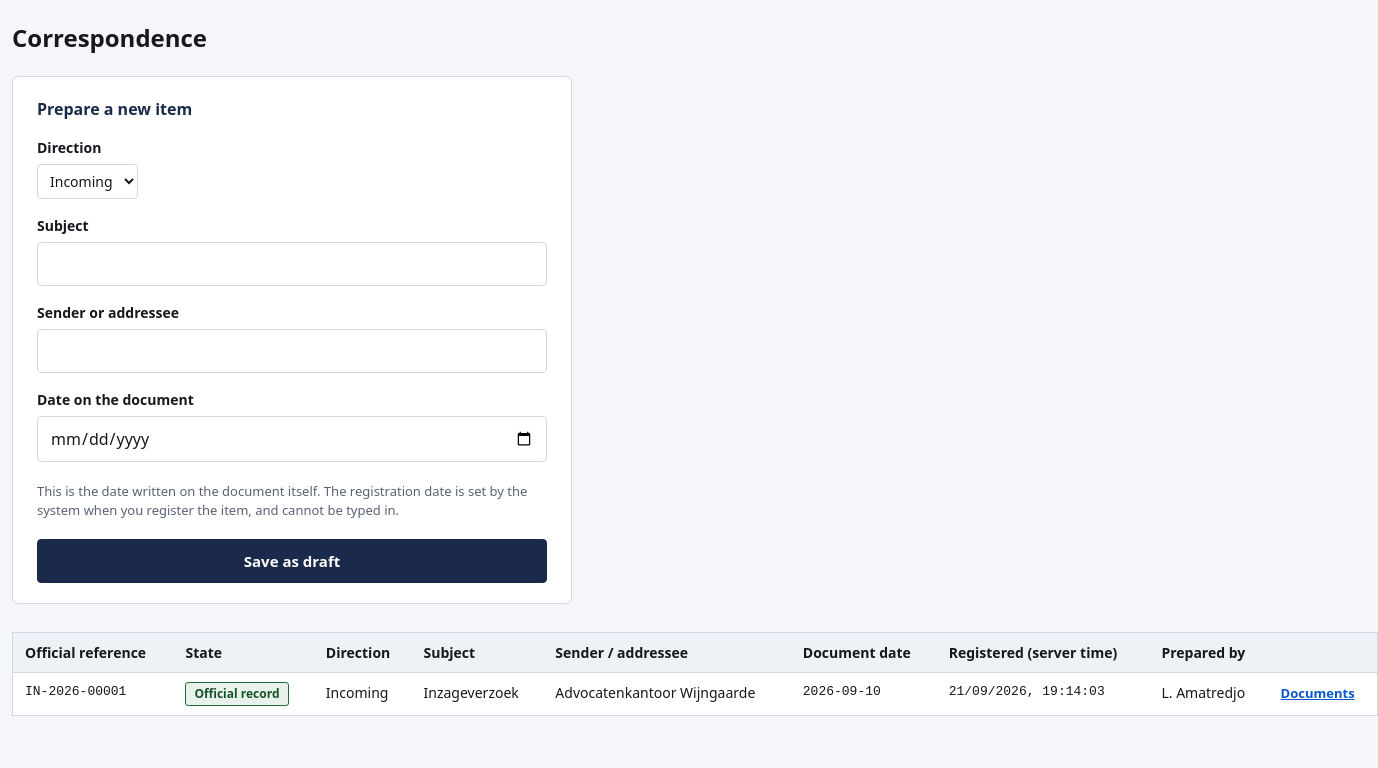
Test case: Registration duplicate warning › derived text (FR-COR-015) › explains an empty PDF as a missing text layer, not as a blank page
Click the button "Documents". click: (1318,693)
box: top-left (1281, 684), bottom-right (1355, 702)
(page scrolled)
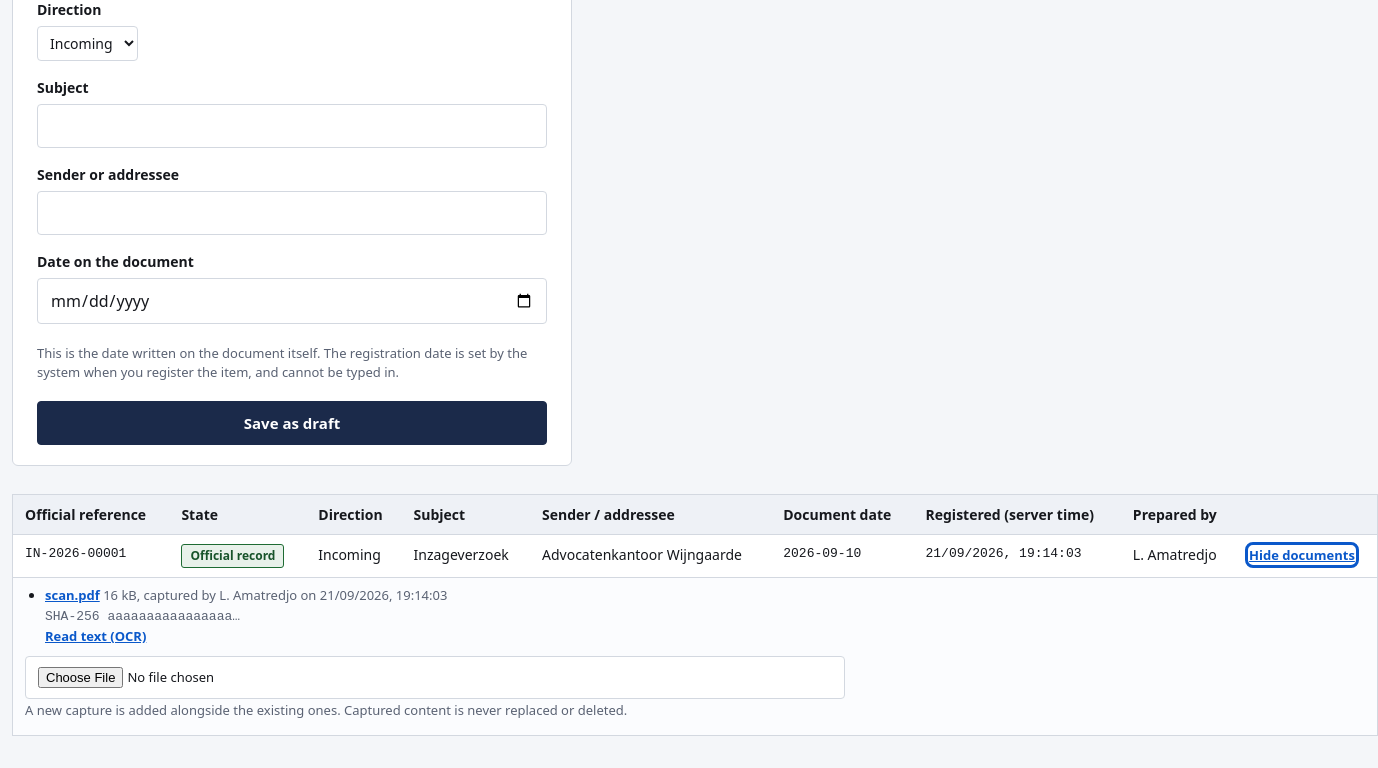
Click the button "Read text (OCR)". click: (96,636)
box: top-left (45, 627), bottom-right (146, 645)
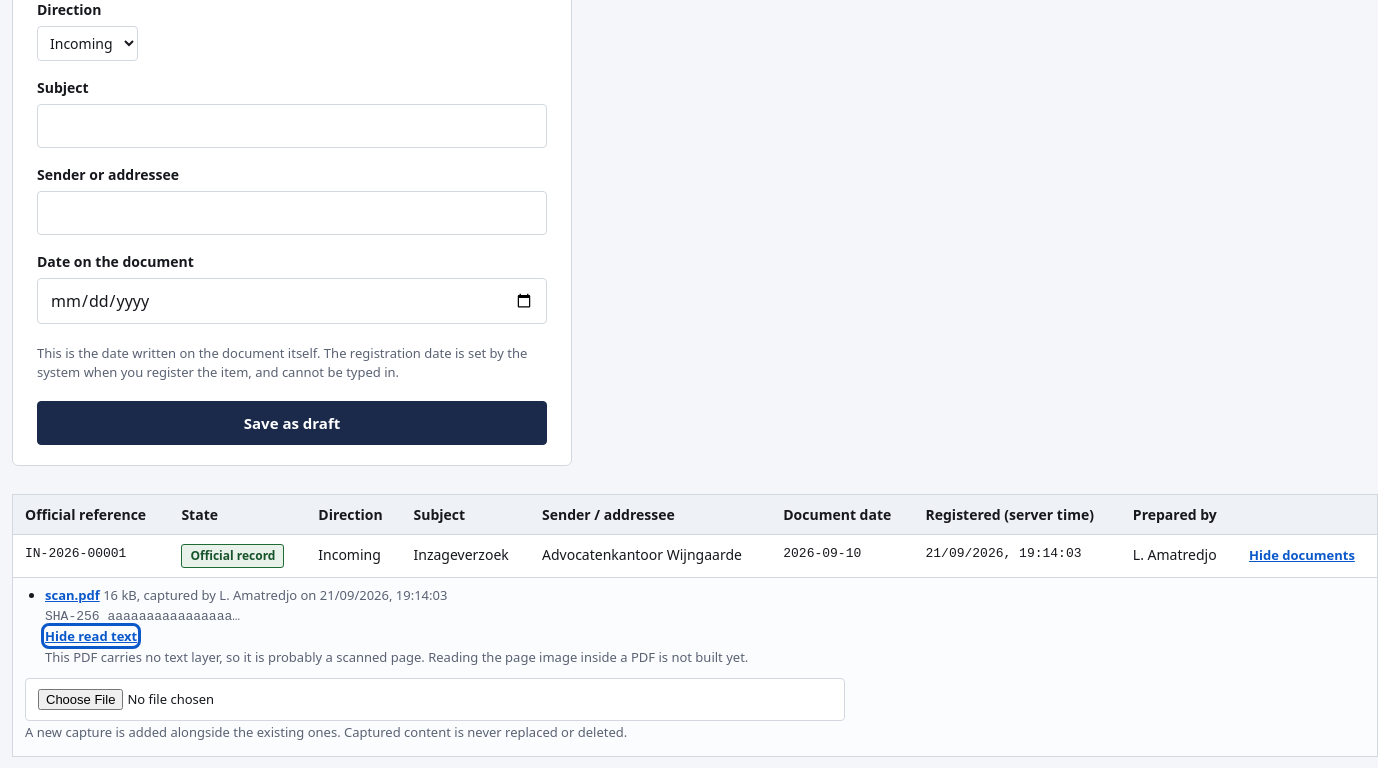
Now the text "no text layer" is shown, box top-left (45, 648), bottom-right (748, 666)
